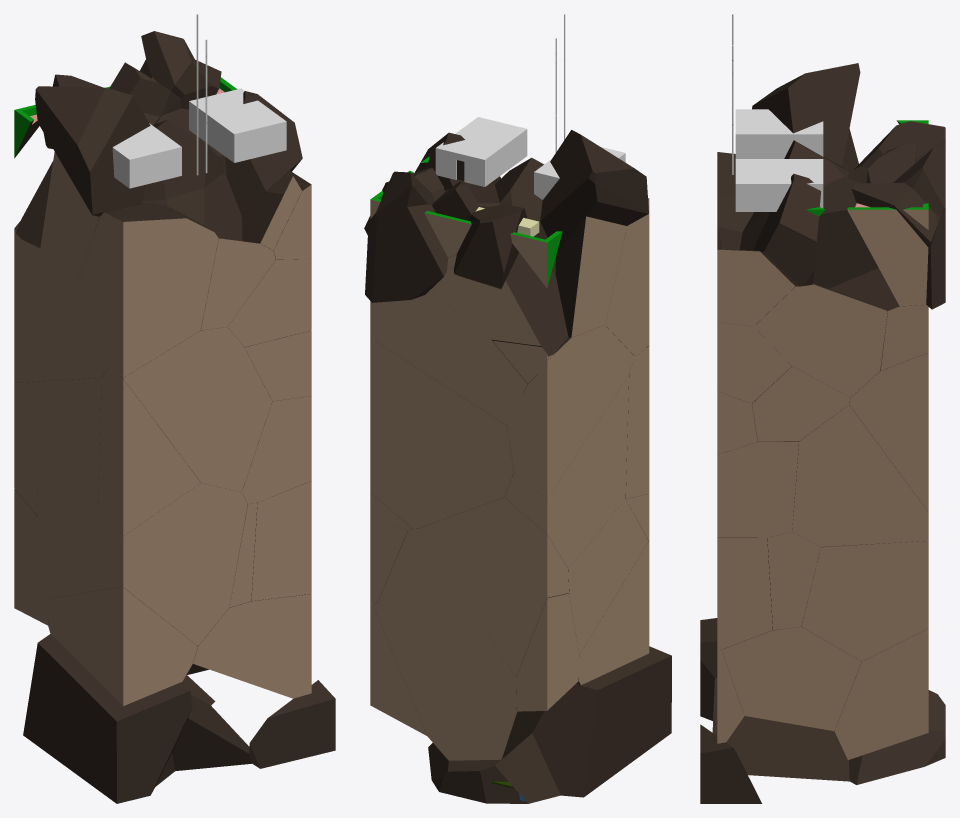
Rendered from centred broken.fbx.
The picture shows the model from 3 angles, left to right: view 1: azimuth 30°, elevation 25°; view 2: azimuth 150°, elevation 25°; view 3: azimuth 270°, elevation 25°; orthographic projection. The views are drawn at different scales.
Visible parts, largest first — view 1: Building_1.002_cell.055, Building_1.002_cell.086, Building_1.002_cell.067, Building_1.002_cell.042, Building_1.002_cell.039, Building_1.002_cell.046, Building_1.002_cell.062, Building_1.002_cell.033, Building_1.002_cell.077, Building_1.002_cell.089, Building_1.002_cell.076, Building_1.002_cell.010 (+23 smaller); view 2: Building_1.002_cell.060, Building_1.002_cell, Building_1.002_cell.086, Building_1.002_cell.033, Building_1.002_cell.022, Building_1.002_cell.004, Building_1.002_cell.077, Building_1.002_cell.079, Building_1.002_cell.039, Building_1.002_cell.058, Building_1.002_cell.078, Building_1.002_cell.044 (+21 smaller); view 3: Building_1.002_cell.002, Building_1.002_cell.030, Building_1.002_cell.069, Building_1.002_cell.082, Building_1.002_cell.039, Building_1.002_cell.012, Building_1.002_cell.056, Building_1.002_cell.060, Building_1.002_cell.080, Building_1.002_cell.010, Building_1.002_cell.003, Building_1.002_cell.038 (+21 smaller).
Boxes of the visible parts, x1,y1,x2,y2 form: Building_1.002_cell.055: [76, 203, 218, 377]; Building_1.002_cell.086: [23, 634, 192, 803]; Building_1.002_cell.067: [119, 327, 272, 492]; Building_1.002_cell.042: [98, 483, 247, 645]; Building_1.002_cell.039: [35, 86, 181, 216]; Building_1.002_cell.046: [48, 586, 197, 706]; Building_1.002_cell.062: [98, 368, 200, 535]; Building_1.002_cell.033: [14, 238, 107, 382]; Building_1.002_cell.077: [14, 377, 101, 504]; Building_1.002_cell.089: [193, 594, 311, 698]; Building_1.002_cell.076: [37, 490, 122, 598]; Building_1.002_cell.010: [251, 481, 311, 601]; Building_1.002_cell.060: [370, 338, 513, 528]; Building_1.002_cell: [419, 497, 569, 676]; Building_1.002_cell.086: [532, 646, 671, 797]; Building_1.002_cell.033: [507, 325, 634, 498]; Building_1.002_cell.022: [373, 602, 543, 760]; Building_1.002_cell.004: [370, 290, 527, 425]; Building_1.002_cell.077: [504, 375, 628, 568]; Building_1.002_cell.079: [378, 528, 516, 709]; Building_1.002_cell.039: [534, 130, 648, 252]; Building_1.002_cell.058: [430, 252, 568, 359]; Building_1.002_cell.078: [365, 204, 447, 302]; Building_1.002_cell.044: [555, 216, 626, 337]; Building_1.002_cell.002: [792, 405, 928, 546]; Building_1.002_cell.030: [801, 540, 928, 661]; Building_1.002_cell.069: [722, 626, 861, 730]; Building_1.002_cell.082: [754, 283, 887, 397]; Building_1.002_cell.039: [735, 63, 860, 166]; Building_1.002_cell.012: [834, 628, 928, 759]; Building_1.002_cell.056: [717, 441, 799, 537]; Building_1.002_cell.060: [849, 352, 928, 511]; Building_1.002_cell.080: [712, 678, 849, 781]; Building_1.002_cell.010: [717, 537, 772, 649]; Building_1.002_cell.003: [847, 203, 928, 306]; Building_1.002_cell.038: [752, 366, 850, 441].
Bounding box in the file's own units: 285 × 938 × 285.
